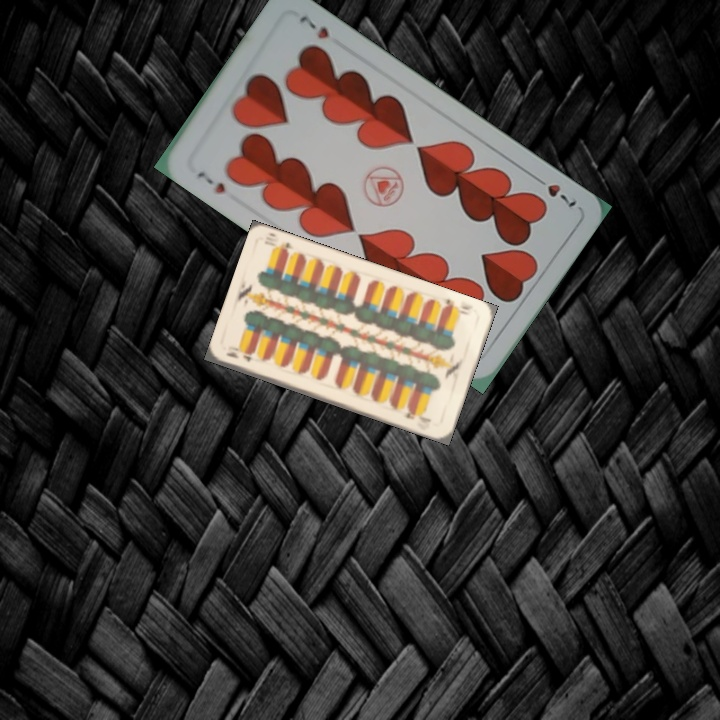E10: (439, 295, 476, 318), (222, 348, 255, 364)
H7: (528, 171, 580, 210), (193, 167, 229, 197)
